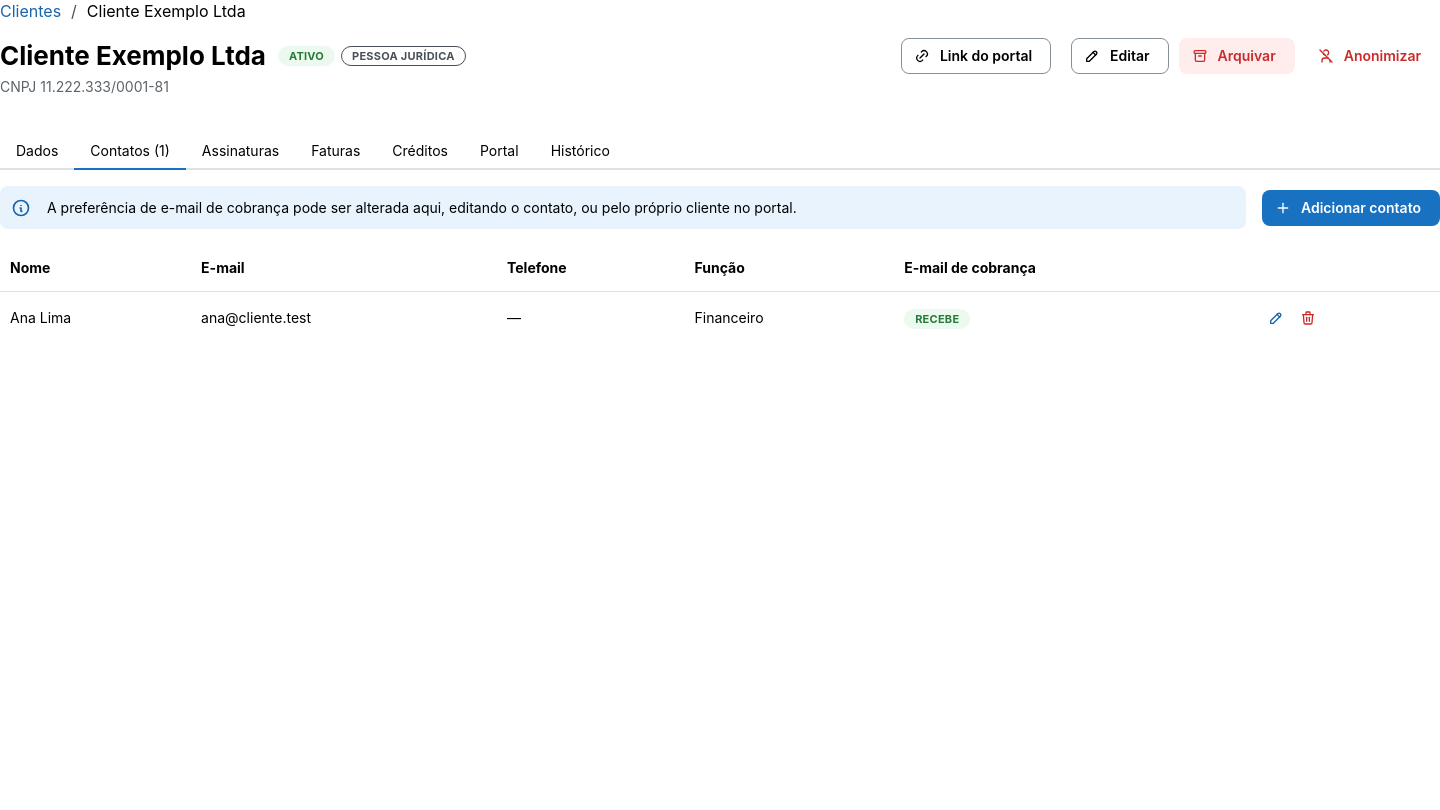
Test: contatos do cliente › erro de validação da API fica no campo e o modal continua aberto
Click the button named "Editar contato Ana Lima": (1276, 318) [1262,304,1290,332]
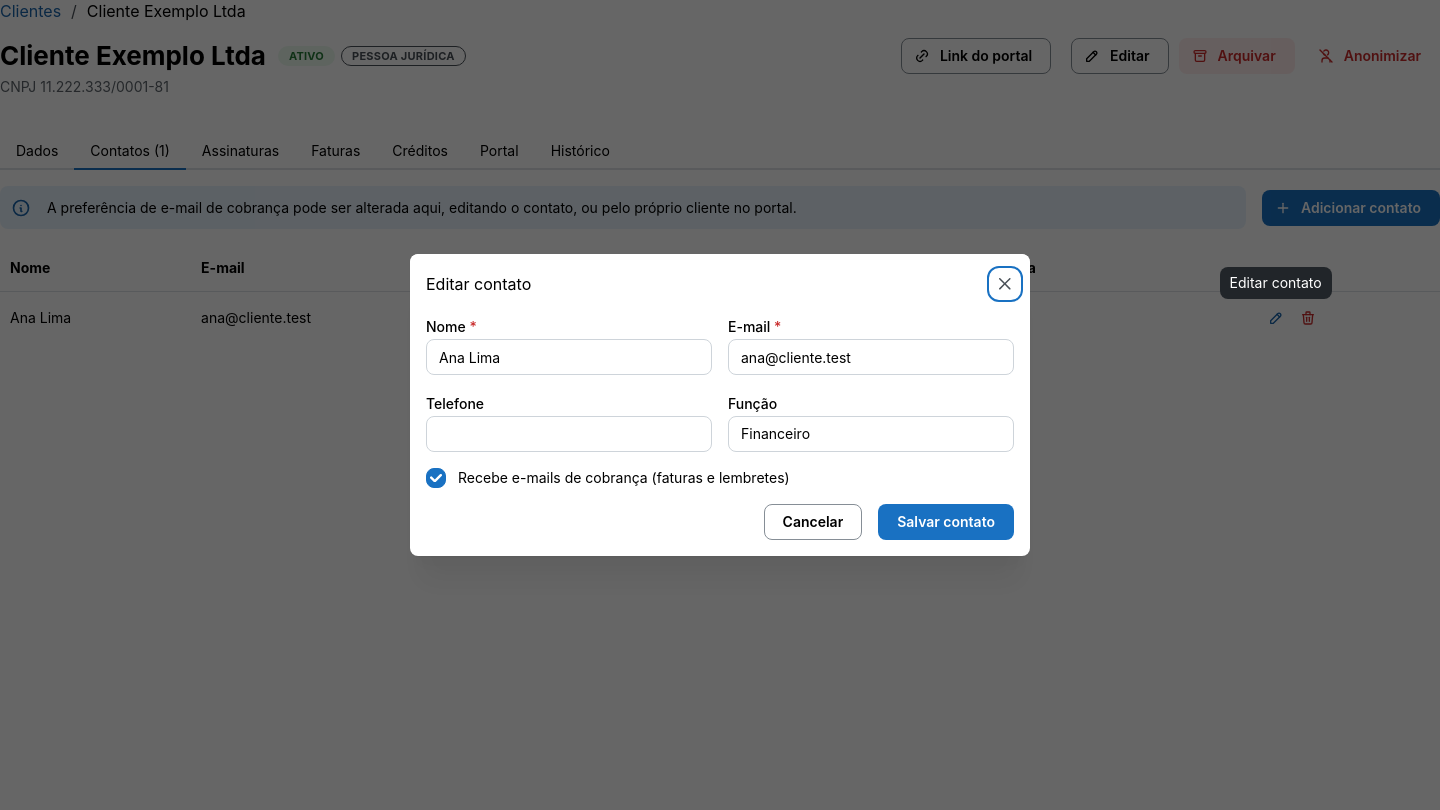
Click the button "Salvar contato": (946, 522) [878,504,1014,540]
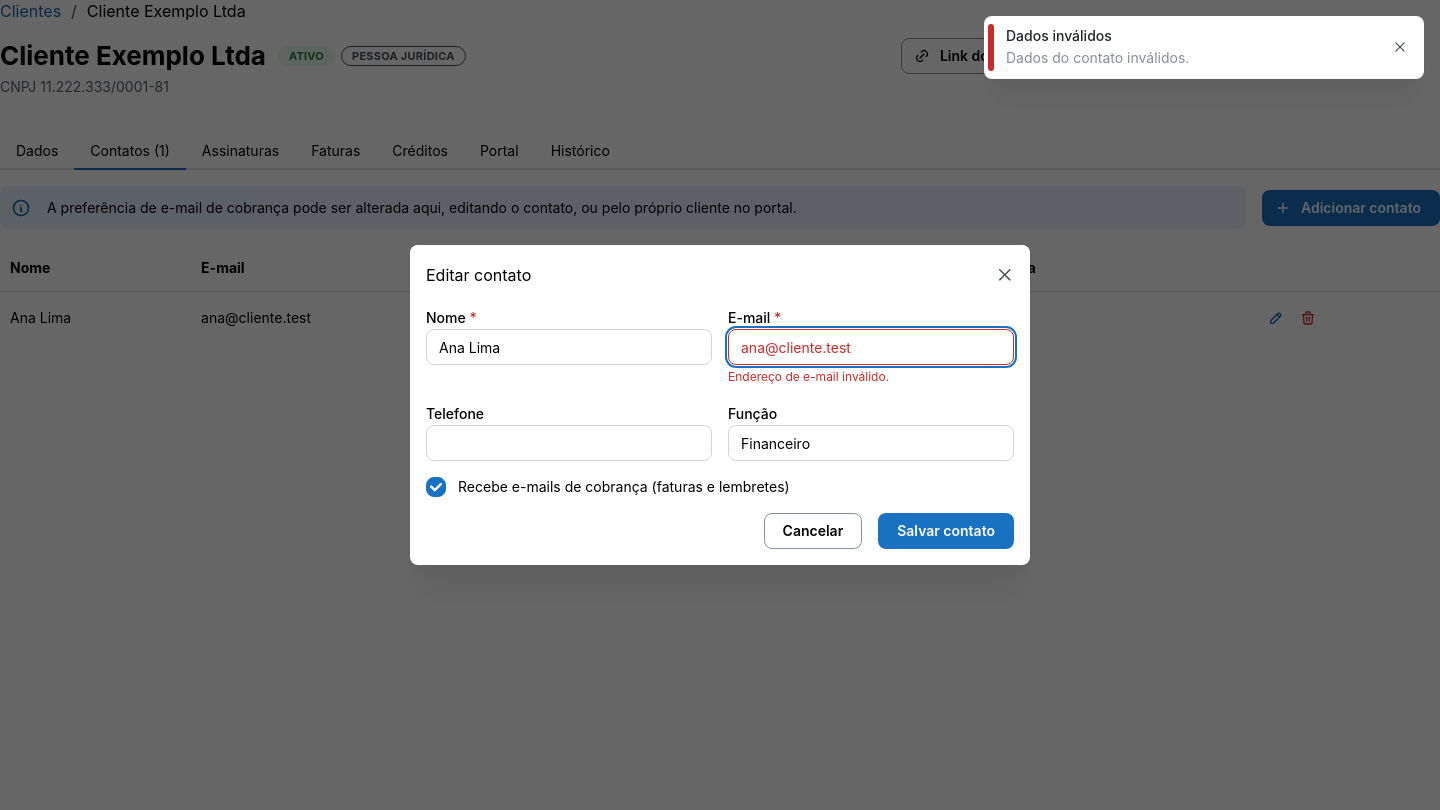
Expected: the text "Endereço de e-mail inválido." is shown, [728,369,889,384]
